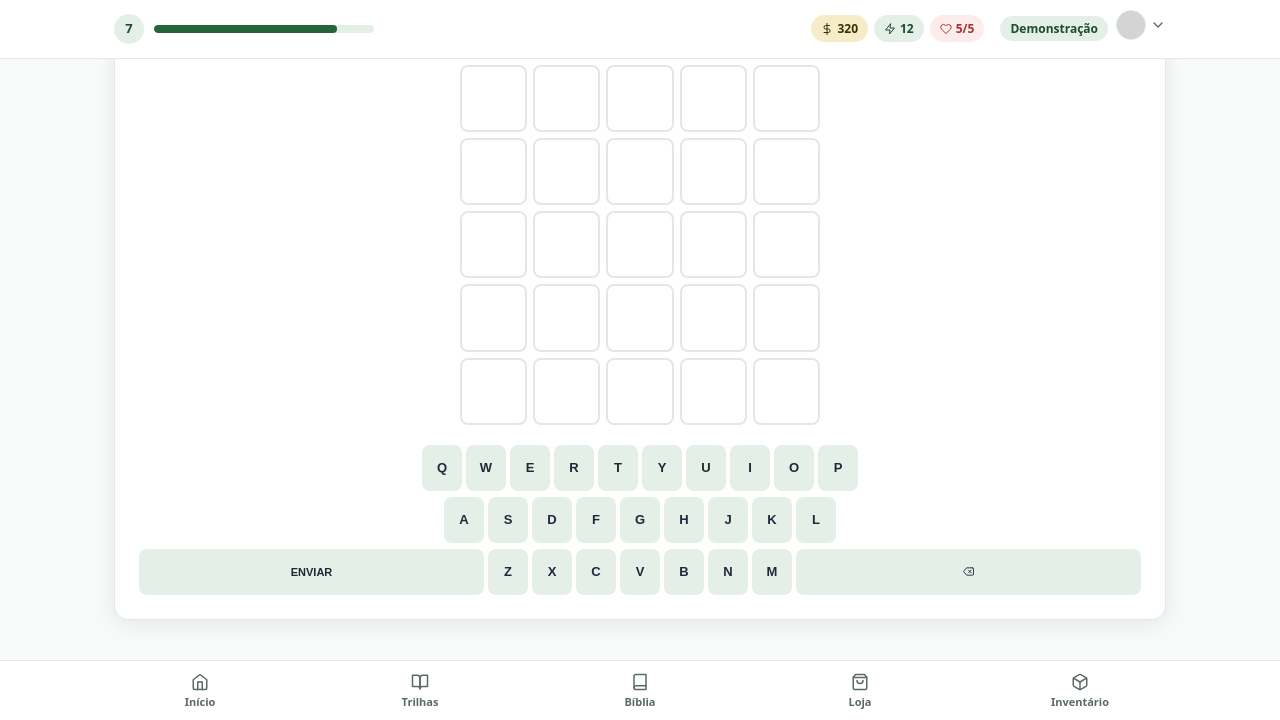
Test: TermoPlayPage › clicar Enviar sem preencher a tentativa mostra um erro, sem avançar linha
The width and height of the screenshot is (1280, 720).
(page scrolled)
What coordinates should you click on to do the following:
click the button "Enviar"
I would click on:
 (312, 572)
Its box is [139,549,484,595].
(page scrolled)
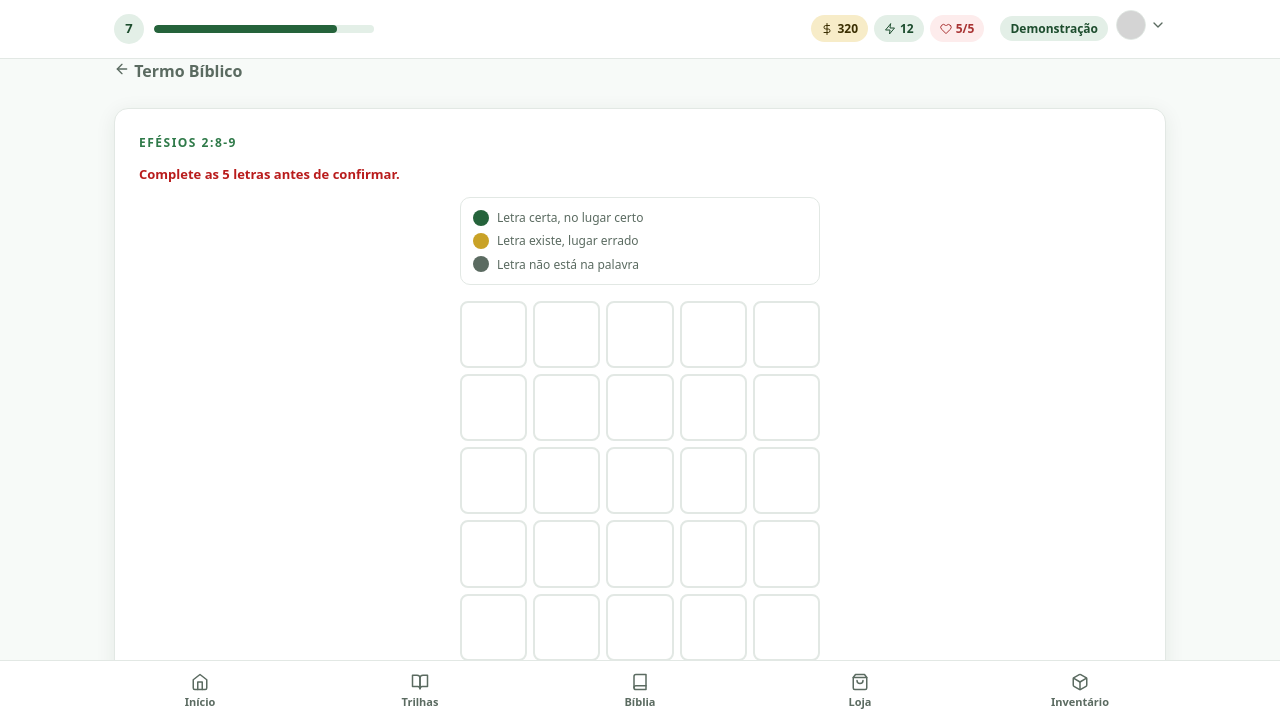
Expected: the text "Complete as 5 letras antes de confirmar." is shown, [139,165,400,183]
